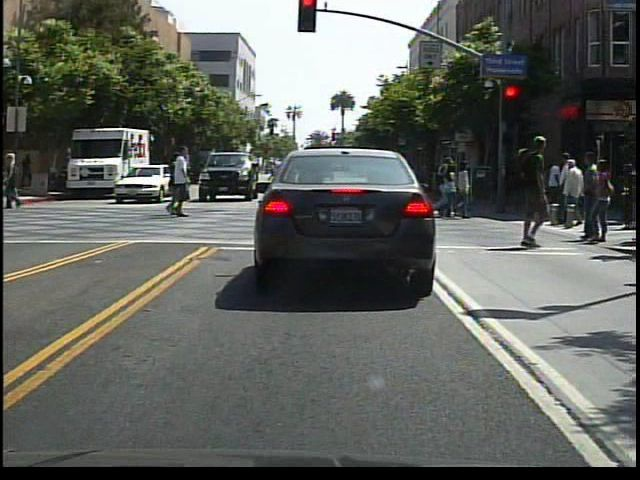person: (504, 130, 561, 256), (553, 154, 588, 234), (161, 150, 197, 226), (274, 154, 307, 214)
